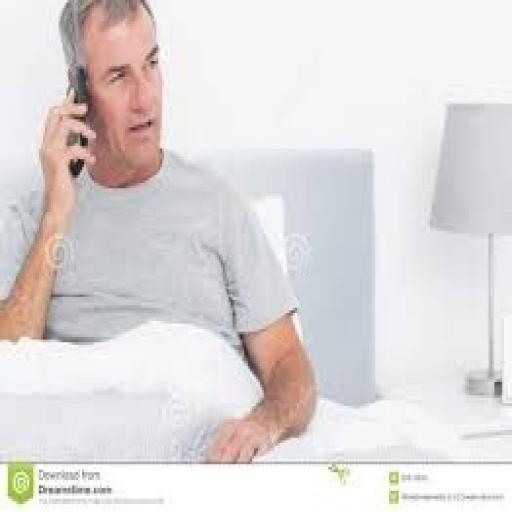calling: (0, 0, 319, 464)
